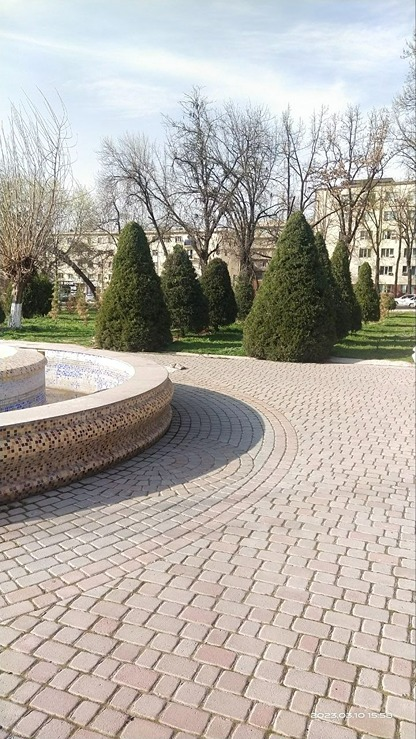tree: (2, 81, 65, 327), (143, 86, 240, 241), (251, 209, 333, 345), (319, 108, 395, 230), (100, 219, 166, 356), (153, 234, 196, 334), (200, 256, 245, 331), (351, 260, 383, 325)
